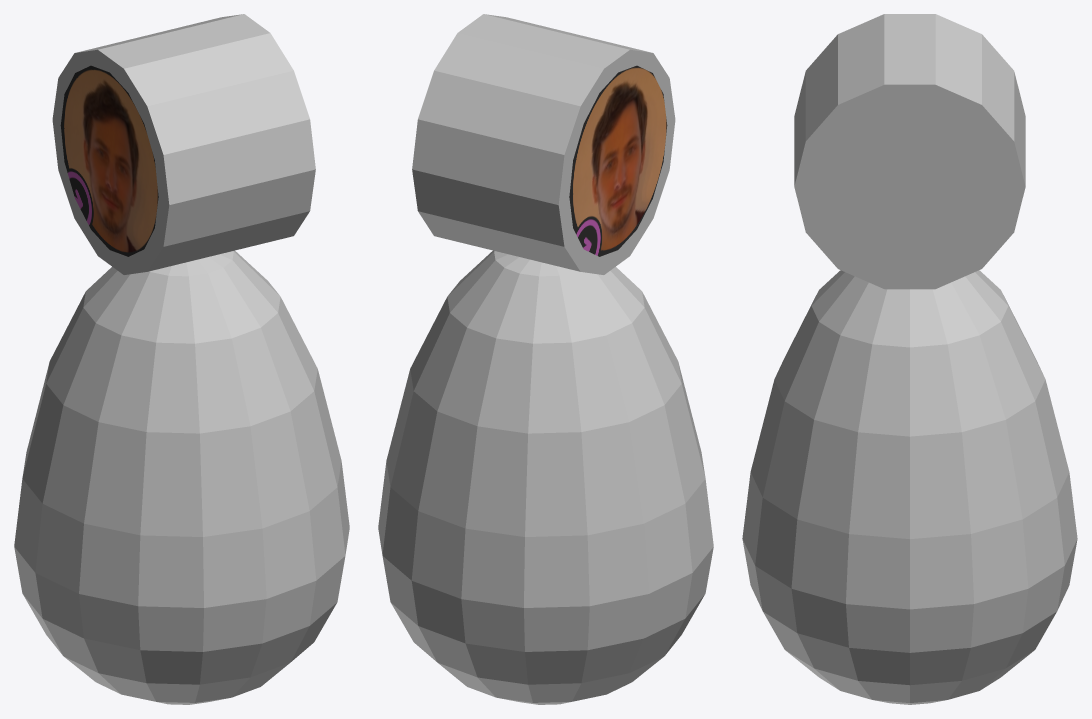
File: TeachersModel-EchteMitch.obj
The picture shows the model from 3 angles, left to right: view 1: azimuth 30°, elevation 25°; view 2: azimuth 150°, elevation 25°; view 3: azimuth 270°, elevation 25°; orthographic projection.
Visible parts, largest first — view 1: Sphere, Cylinder, 42e18a90f3120e2d4d90189d9bc24d2e; view 2: Sphere, Cylinder, 42e18a90f3120e2d4d90189d9bc24d2e; view 3: Sphere, Cylinder.
Part boxes in pixels (x1,y1,x2,y2): Sphere: (14, 250, 349, 704); Cylinder: (52, 14, 315, 274); 42e18a90f3120e2d4d90189d9bc24d2e: (60, 65, 158, 256); Sphere: (378, 250, 713, 704); Cylinder: (412, 14, 675, 274); 42e18a90f3120e2d4d90189d9bc24d2e: (569, 65, 667, 256); Sphere: (742, 270, 1077, 704); Cylinder: (794, 14, 1025, 289).
Bounding box in the file's own units: 2 × 4.23 × 2.
